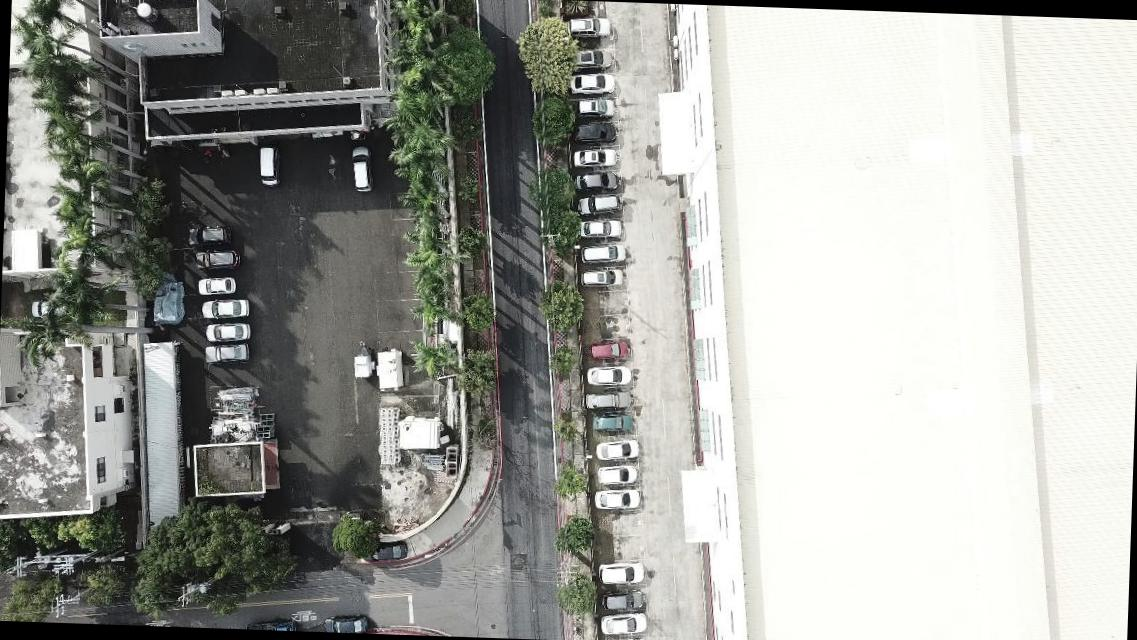vehicle: (598, 559, 643, 587), (599, 611, 645, 637), (569, 70, 614, 96), (187, 223, 229, 250), (362, 538, 408, 562), (192, 247, 239, 270), (593, 489, 640, 512), (574, 170, 618, 194), (576, 192, 620, 216), (594, 437, 638, 461), (348, 147, 371, 192), (201, 344, 248, 366), (576, 218, 621, 240), (581, 242, 625, 264), (598, 590, 642, 612), (586, 365, 630, 387), (564, 17, 610, 38), (584, 390, 632, 410), (579, 266, 622, 288), (205, 320, 250, 341), (201, 299, 248, 319), (256, 145, 278, 187), (574, 122, 615, 144), (322, 616, 369, 634), (586, 340, 630, 359), (573, 148, 613, 168), (597, 466, 637, 486), (573, 98, 613, 117), (570, 51, 610, 69), (591, 414, 633, 431), (198, 277, 235, 296), (28, 297, 54, 319)
